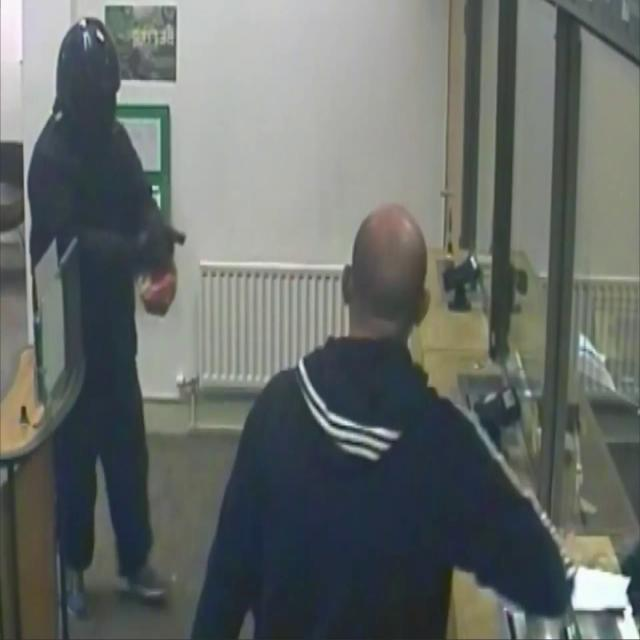Gun: (144, 220, 187, 269)
